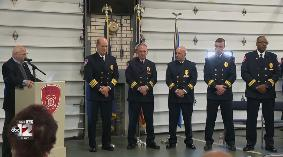person: (74, 35, 120, 153), (240, 35, 280, 153), (124, 41, 162, 151), (203, 37, 236, 152), (164, 43, 199, 150), (1, 41, 44, 120)
